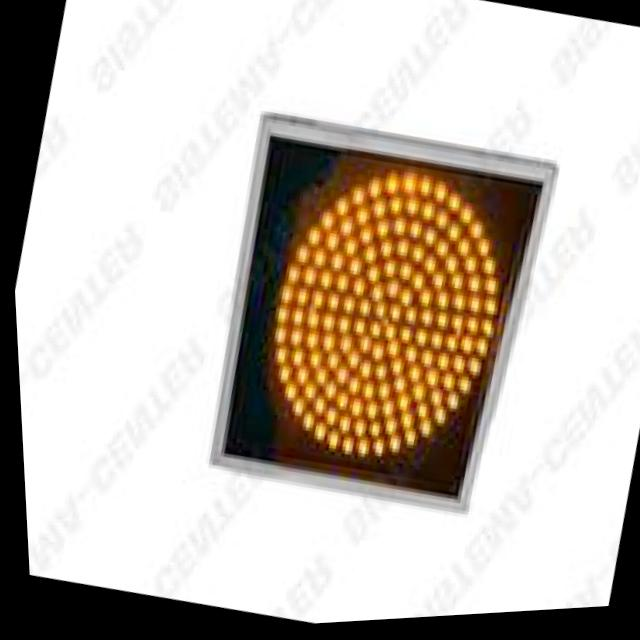yellow_light: (178, 55, 572, 559)
